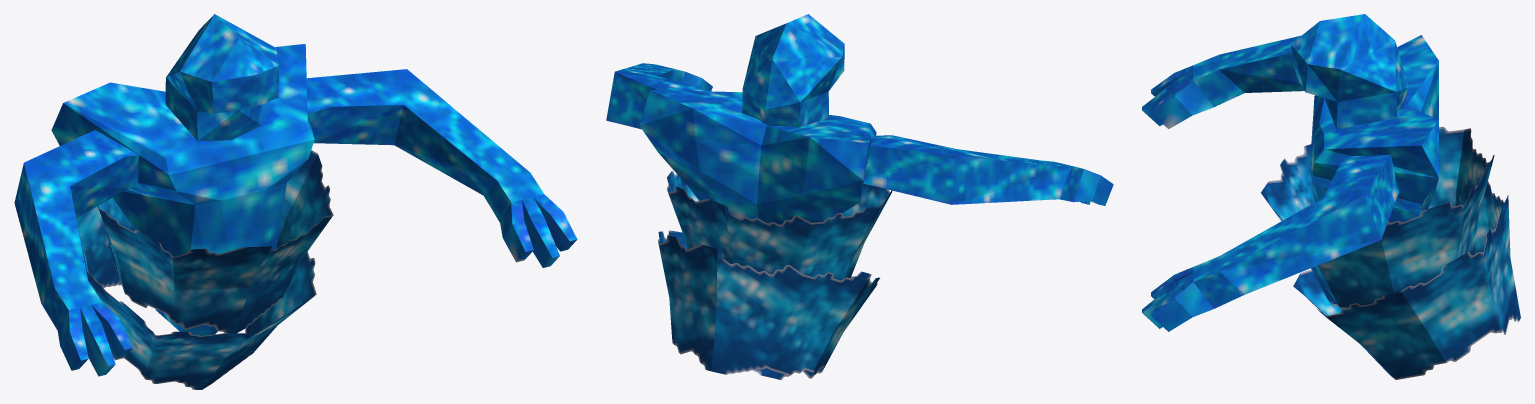
Rendered from jengu.obj.
3 renders of one model, left to right at view 1: azimuth 30°, elevation 25°; view 2: azimuth 150°, elevation 25°; view 3: azimuth 270°, elevation 25°, orthographic. The views are drawn at different scales.
Parts seen in each view (by area): view 1: Body, ArmLeft, Effect01, ArmRight, Effect02, Head; view 2: Body, Effect02, ArmRight, Effect01, Head, ArmLeft; view 3: Effect02, ArmLeft, Effect01, Body, Head, ArmRight.
Boxes of the visible parts, x1=… form: Body: x1=51, y1=44, x2=314, y2=335; ArmLeft: x1=306, y1=69, x2=577, y2=267; Effect01: x1=97, y1=150, x2=333, y2=333; ArmRight: x1=14, y1=130, x2=140, y2=376; Effect02: x1=76, y1=206, x2=316, y2=389; Head: x1=165, y1=14, x2=278, y2=141; Body: x1=639, y1=90, x2=876, y2=224; Effect02: x1=658, y1=230, x2=879, y2=379; ArmRight: x1=864, y1=135, x2=1113, y2=205; Effect01: x1=667, y1=170, x2=892, y2=280; Head: x1=742, y1=14, x2=844, y2=127; ArmLeft: x1=606, y1=63, x2=712, y2=129; Effect02: x1=1293, y1=181, x2=1520, y2=379; ArmLeft: x1=1142, y1=154, x2=1399, y2=331; Effect01: x1=1261, y1=126, x2=1494, y2=308; Body: x1=1310, y1=35, x2=1438, y2=222; Head: x1=1291, y1=14, x2=1408, y2=129; ArmRight: x1=1142, y1=35, x2=1304, y2=129.
Bounding box in the file's own units: 2.51 × 1.86 × 1.78.
